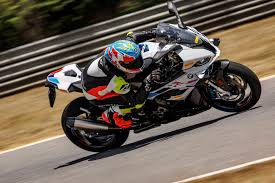motorcycle: (45, 3, 264, 152)
